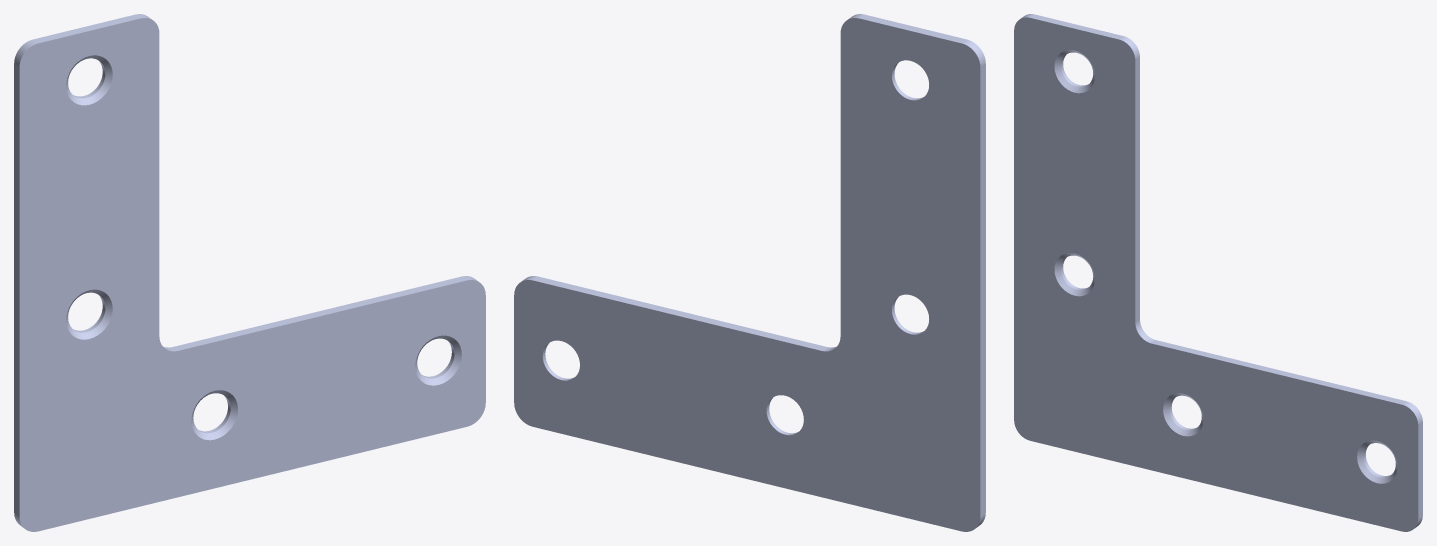
Rendered from TPCC-TPCC-1515-1515L-ZP.glb.
3 views of the same model, side by side, from view 1: azimuth 30°, elevation 25°; view 2: azimuth 150°, elevation 25°; view 3: azimuth 330°, elevation 25° (orthographic). The views are drawn at different scales.
Visible parts, largest first — view 1: 1515L°; view 2: 1515L°; view 3: 1515L°.
Boxes of the visible parts, left/top/right/bottom form: 1515L°: left=14, top=14, right=485, bottom=531; 1515L°: left=514, top=14, right=985, bottom=531; 1515L°: left=1014, top=14, right=1422, bottom=531.
Size of the model in its own units: 0.05 by 0.05 by 0.001.
